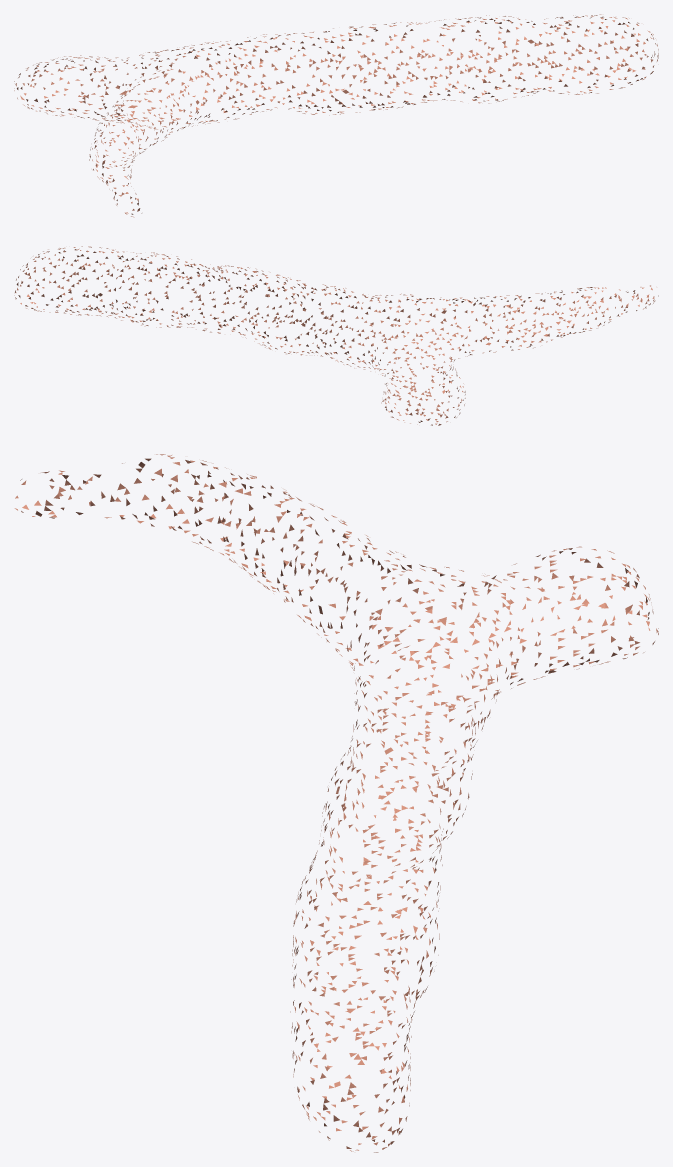
File: morph_003.glb
3 renders of one model, top to bottom at view 1: azimuth 30°, elevation 25°; view 2: azimuth 150°, elevation 25°; view 3: azimuth 270°, elevation 25°, orthographic. The views are drawn at different scales.
Size of the model in its own units: 120 by 22.98 by 62.15.
